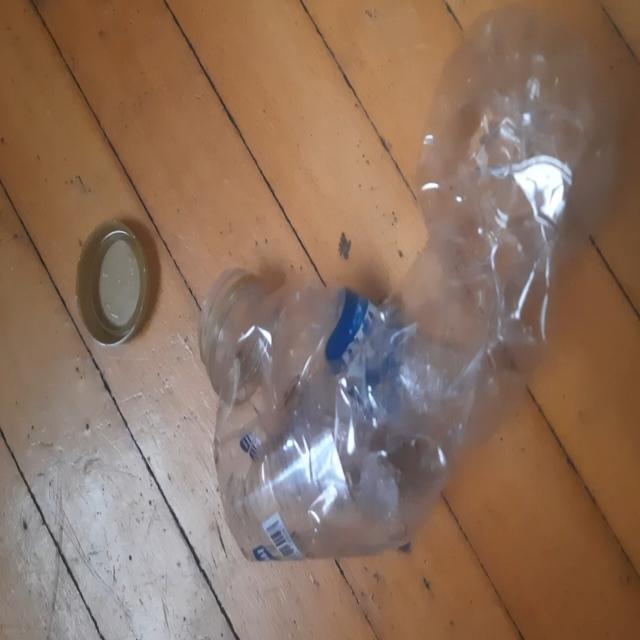Plastic: (202, 2, 622, 564)
